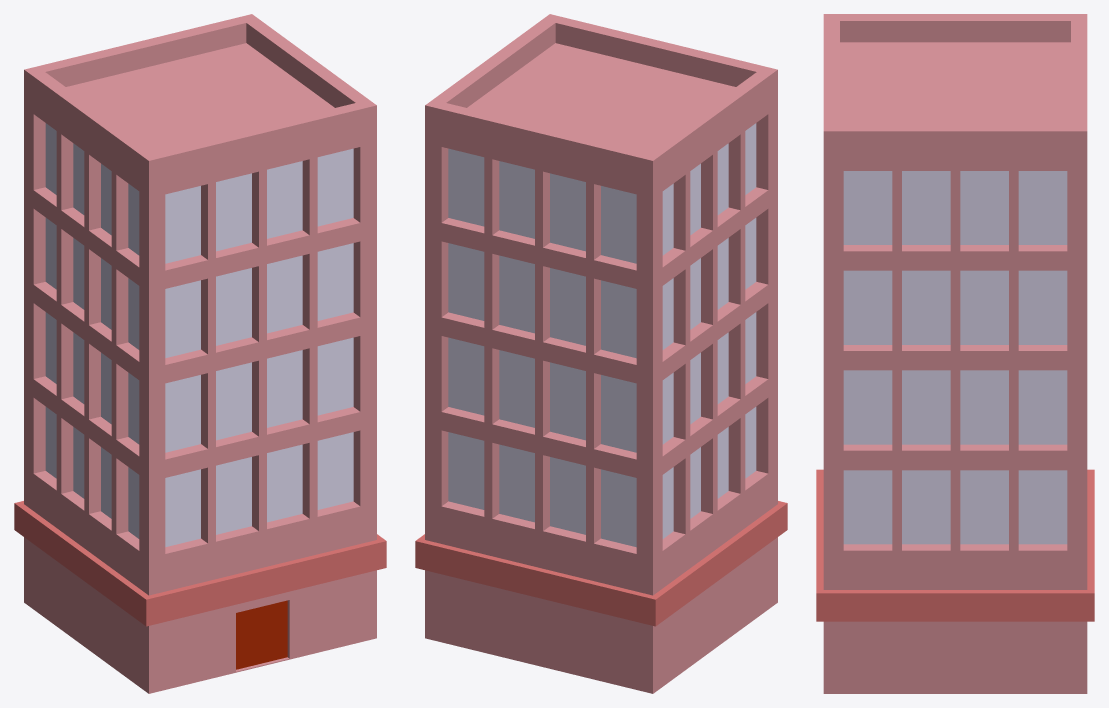
File: bina1.04.2121.fbx
The picture shows the model from 3 angles, left to right: view 1: azimuth 30°, elevation 25°; view 2: azimuth 150°, elevation 25°; view 3: azimuth 270°, elevation 25°; orthographic projection. The views are drawn at different scales.
Parts seen in each view (by area): view 1: Cube, Cube.001, Cube.003, Cube.002; view 2: Cube, Cube.001, Cube.003; view 3: Cube, Cube.001, Cube.003.
Boxes of the visible parts, left/top/right/bottom form: Cube: left=24, top=14, right=376, bottom=693; Cube.001: left=45, top=123, right=353, bottom=547; Cube.003: left=14, top=501, right=386, bottom=626; Cube.002: left=236, top=600, right=287, bottom=669; Cube: left=425, top=14, right=777, bottom=693; Cube.001: left=448, top=123, right=756, bottom=547; Cube.003: left=415, top=501, right=787, bottom=626; Cube: left=823, top=14, right=1087, bottom=693; Cube.001: left=843, top=171, right=1067, bottom=544; Cube.003: left=816, top=469, right=1094, bottom=621.
Bounding box in the file's own units: 491 × 1040 × 467.
